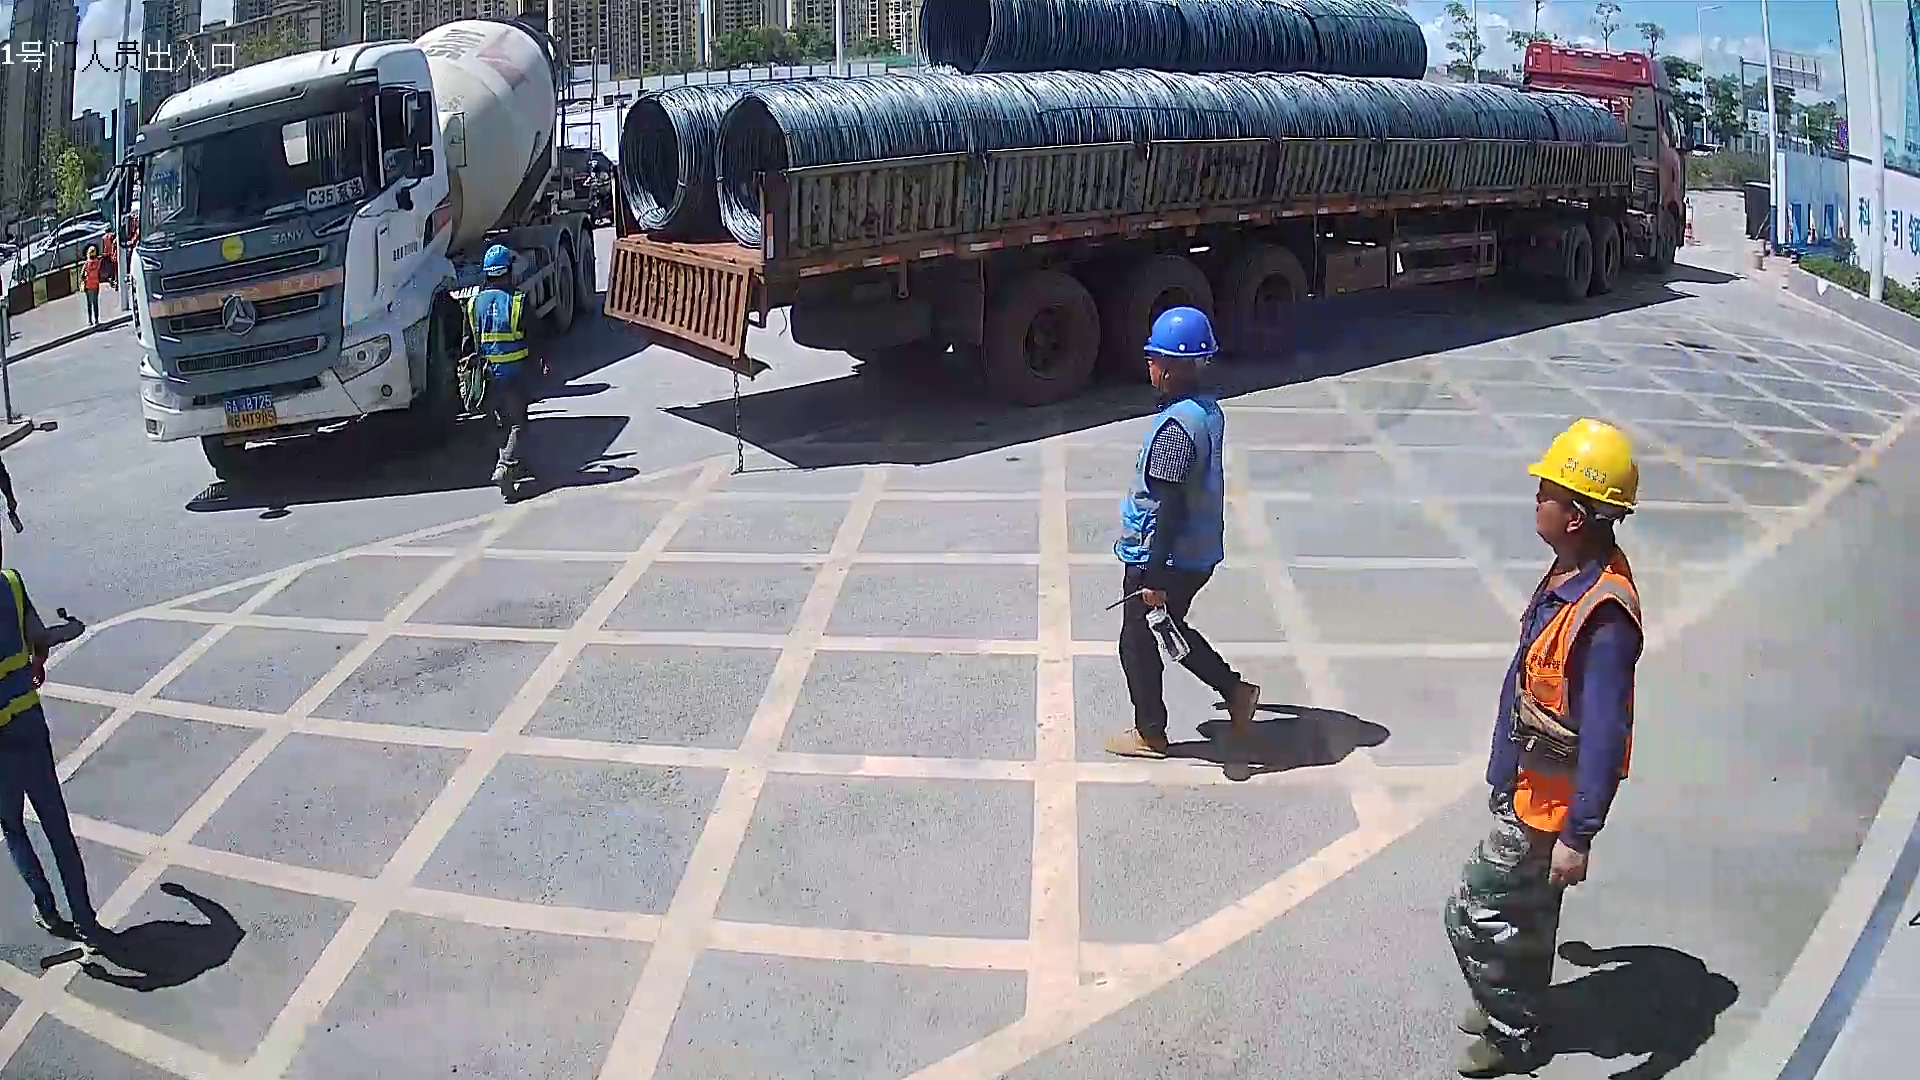person: (1439, 408, 1649, 1080), (1104, 302, 1262, 760), (458, 238, 539, 504)
reflective_vest: (1512, 547, 1648, 836), (1110, 394, 1230, 568), (459, 283, 536, 380)
safety_helmet: (1525, 410, 1644, 558), (1140, 301, 1221, 397), (481, 240, 518, 286)
